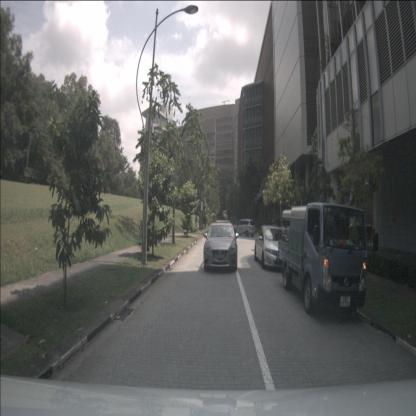vehicle-car: (203, 223, 238, 272), (255, 225, 292, 270), (232, 219, 257, 237)
vehicle-truck: (278, 202, 367, 315)
